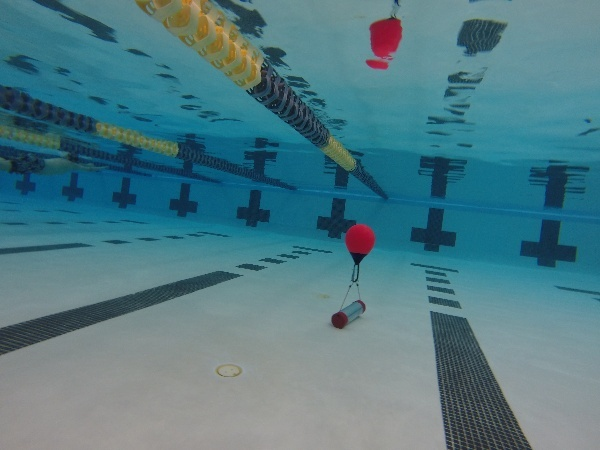buoy_red: (342, 221, 376, 267)
